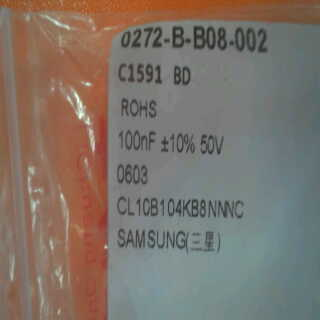100nF: (113, 123, 158, 159)
